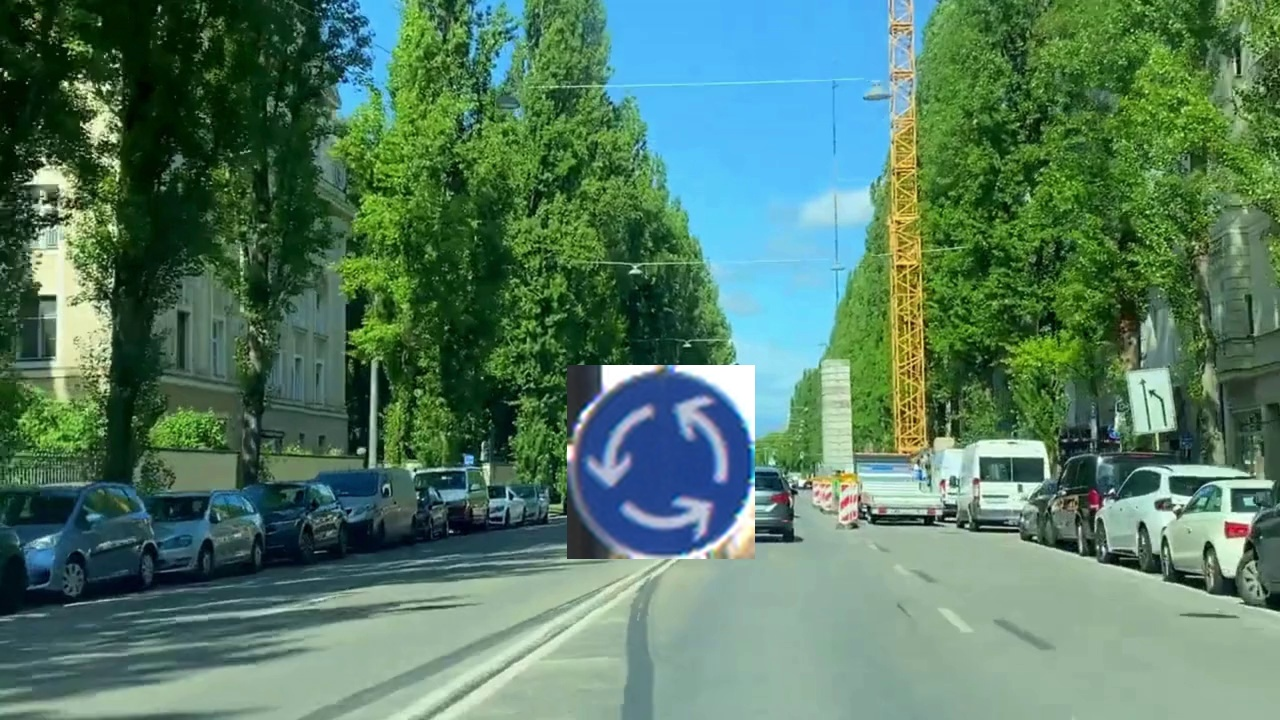Roundabout: (567, 365, 755, 559)
